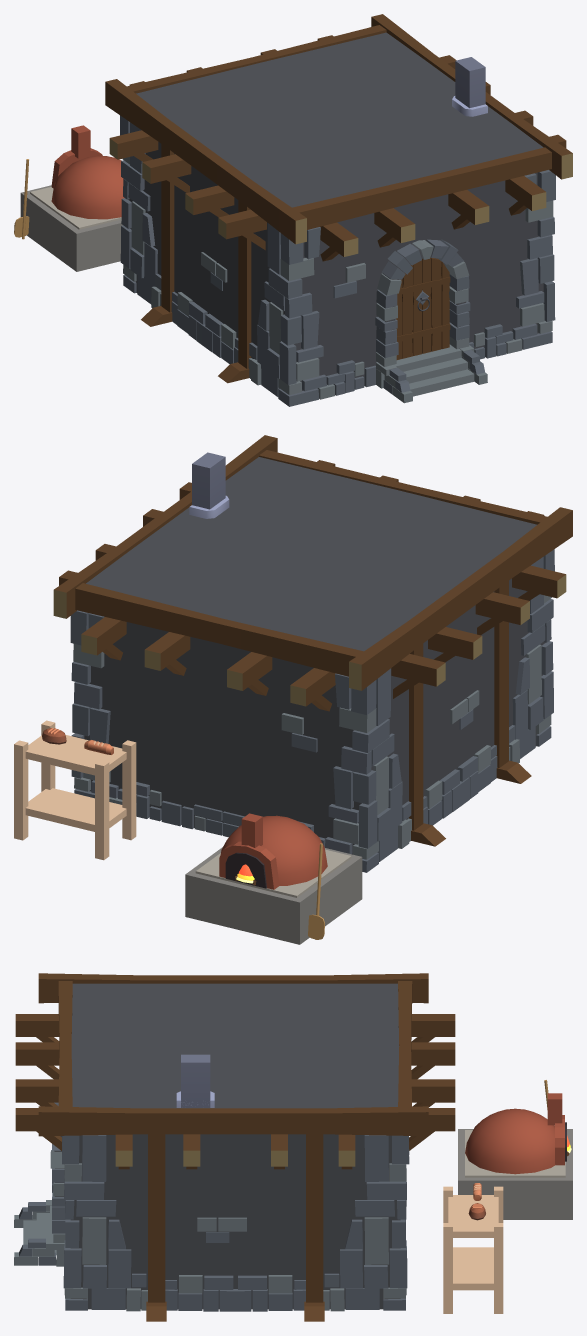
Rendered from london_bld_bakery.glb.
3 views of the same model, one above another, from view 1: azimuth 30°, elevation 25°; view 2: azimuth 150°, elevation 25°; view 3: azimuth 270°, elevation 25° (orthographic). The views are drawn at different scales.
Parts seen in each view (by area): view 1: House_4, Oven base, Oven dome, chimney, Oven floor, Oven chimney, Oven arch, Oven peel; view 2: House_4, bookcaseOpenLow(Clone), Oven base, Oven dome, chimney, Oven floor, Oven arch, Oven mouth, Oven chimney, Oven peel; view 3: House_4, bookcaseOpenLow(Clone), Oven dome, Oven base, chimney, Oven floor, Oven chimney, Oven arch.
Boxes of the visible parts, <box> form: House_4: <box>105,14,572,406</box>; Oven base: <box>20,185,122,271</box>; Oven dome: <box>51,155,124,219</box>; chimney: <box>452,57,487,116</box>; Oven floor: <box>30,187,121,229</box>; Oven chimney: <box>71,125,90,158</box>; Oven arch: <box>51,148,102,188</box>; Oven peel: <box>14,159,29,239</box>; House_4: <box>53,435,572,872</box>; bookcaseOpenLow(Clone): <box>14,720,136,860</box>; Oven base: <box>185,847,362,944</box>; Oven dome: <box>220,815,327,885</box>; chimney: <box>189,452,229,518</box>; Oven floor: <box>195,849,351,897</box>; Oven arch: <box>219,841,279,889</box>; Oven mouth: <box>225,852,266,888</box>; Oven chimney: <box>241,813,262,847</box>; Oven peel: <box>308,843,324,939</box>; House_4: <box>14,973,455,1321</box>; bookcaseOpenLow(Clone): <box>443,1186,503,1313</box>; Oven dome: <box>465,1108,555,1174</box>; Oven base: <box>458,1129,572,1219</box>; chimney: <box>176,1054,214,1107</box>; Oven floor: <box>465,1130,565,1177</box>; Oven chimney: <box>547,1093,562,1125</box>; Oven arch: <box>555,1115,564,1165</box>.
Size of the model in its own units: 10.07 by 6.7 by 13.98.
18 materials, 3 textured.
